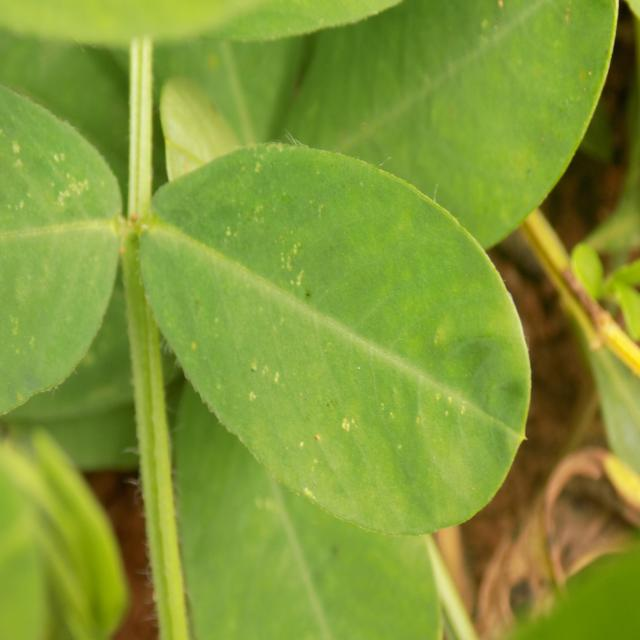Ground nut_healthy: (140, 140, 530, 528)
